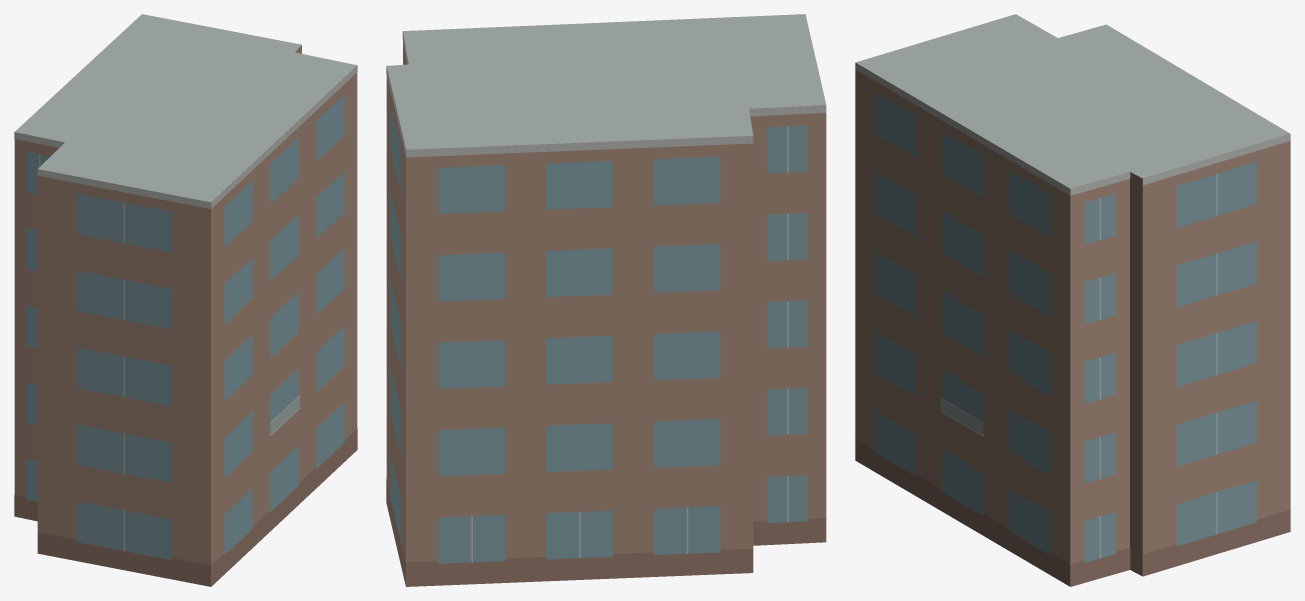
The model's file is survey-upis-32559341.glb.
The picture shows the model from 3 angles, left to right: view 1: azimuth 30°, elevation 25°; view 2: azimuth 150°, elevation 25°; view 3: azimuth 270°, elevation 25°; orthographic projection. The views are drawn at different scales.
Parts seen in each view (by area): view 1: survey-upis-32559341.tmp; view 2: survey-upis-32559341.tmp; view 3: survey-upis-32559341.tmp.
Part boxes in pixels (x1,y1,x2,y2): survey-upis-32559341.tmp: (14,14,357,586); survey-upis-32559341.tmp: (386,14,826,586); survey-upis-32559341.tmp: (855,14,1290,586).
Size of the model in its own units: 13.1 by 13.9 by 13.79.
